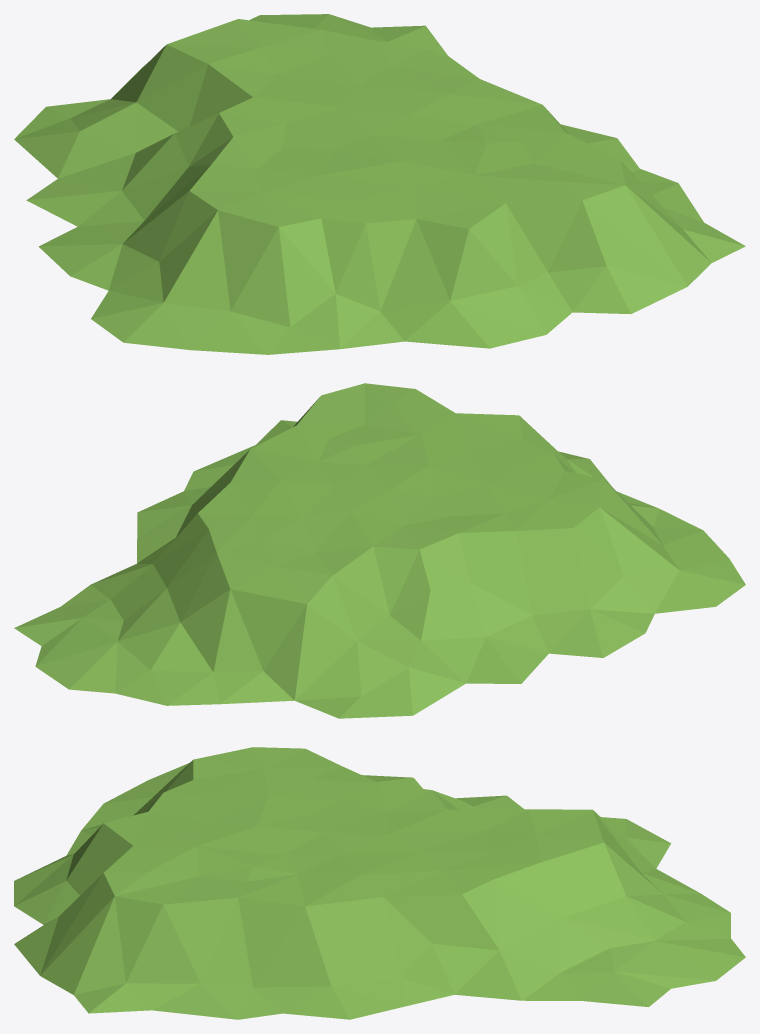
File: MT_Mountain_M_b_14.fbx
3 renders of one model, top to bottom at view 1: azimuth 30°, elevation 25°; view 2: azimuth 150°, elevation 25°; view 3: azimuth 270°, elevation 25°, orthographic. The views are drawn at different scales.
Parts seen in each view (by area): view 1: MT_Mountain_M_b_14; view 2: MT_Mountain_M_b_14; view 3: MT_Mountain_M_b_14.
Part boxes in pixels (left/top/right/bottom): MT_Mountain_M_b_14: left=14, top=14, right=745, bottom=354; MT_Mountain_M_b_14: left=14, top=383, right=745, bottom=718; MT_Mountain_M_b_14: left=14, top=747, right=745, bottom=1019.
Size of the model in its own units: 3203 by 430 by 3828.
